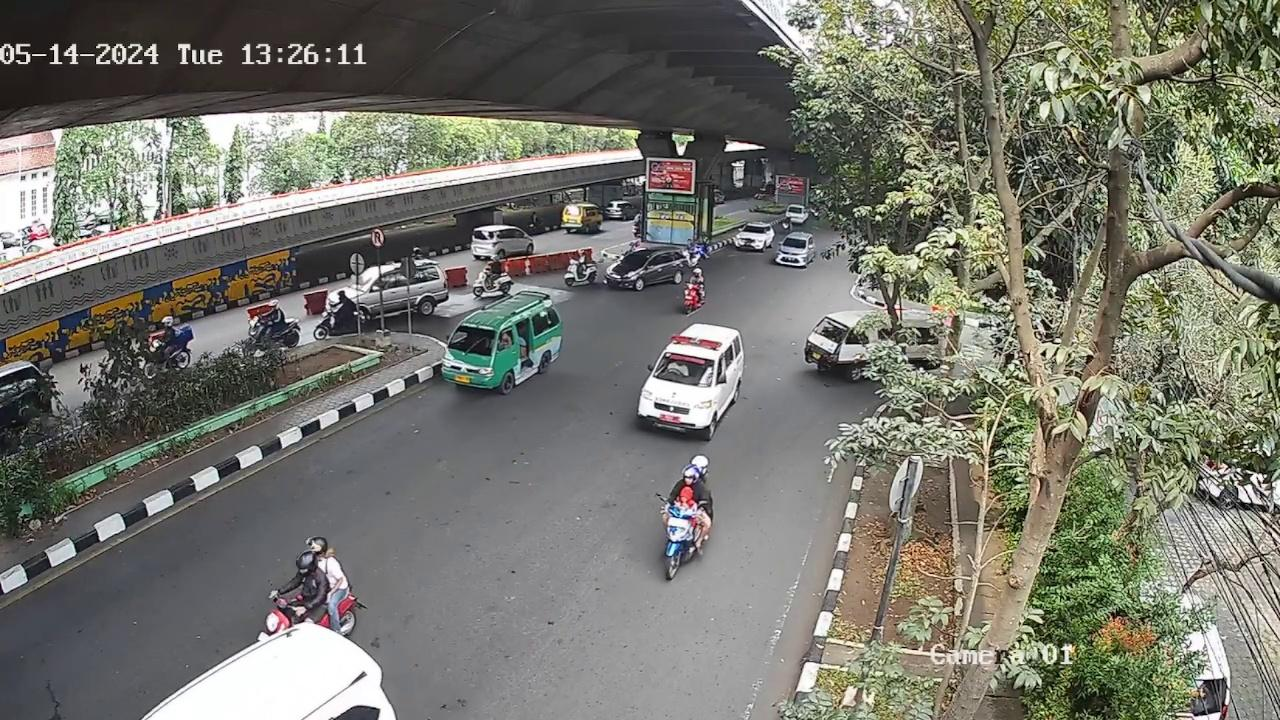tidak-pakai: (665, 359, 687, 380)
windshield: (653, 354, 717, 389), (446, 325, 500, 359)
